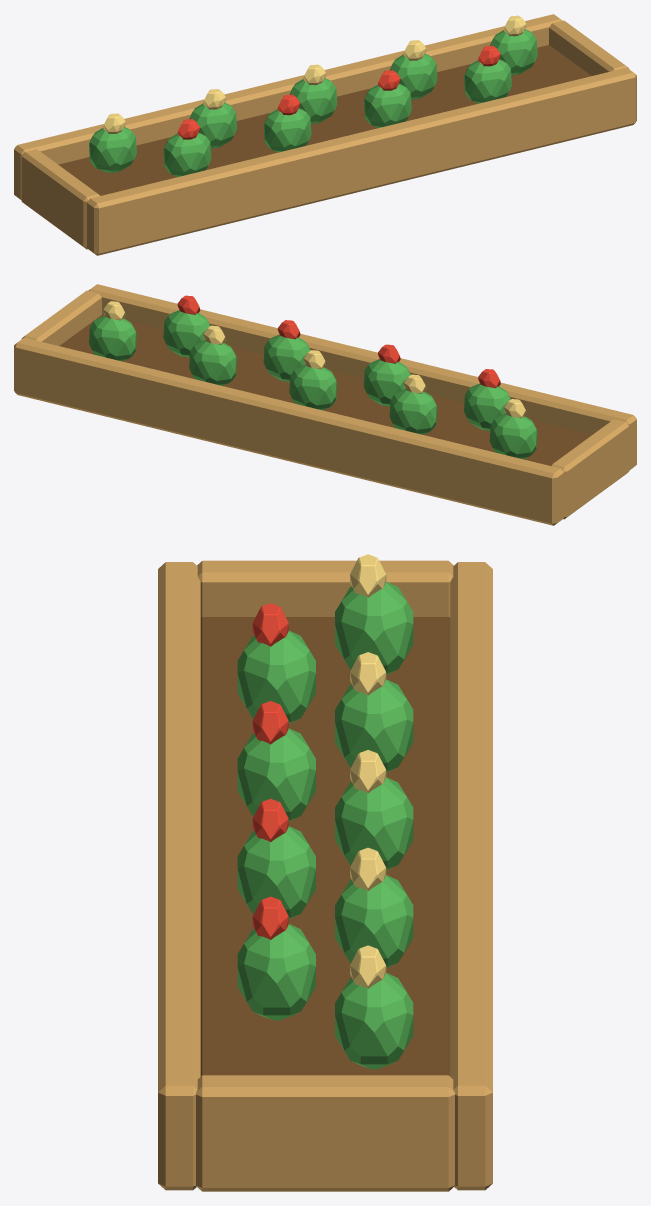
File: FTF_Garden_FlowerBed_Long_4m.glb
The picture shows the model from 3 angles, top to bottom: view 1: azimuth 30°, elevation 25°; view 2: azimuth 150°, elevation 25°; view 3: azimuth 270°, elevation 25°; orthographic projection. The views are drawn at different scales.
Visible parts, largest first — view 1: FTF_Garden_FlowerBed_Long_4m_Mesh; view 2: FTF_Garden_FlowerBed_Long_4m_Mesh; view 3: FTF_Garden_FlowerBed_Long_4m_Mesh.
Boxes of the visible parts, x1,y1,x2,y2 form: FTF_Garden_FlowerBed_Long_4m_Mesh: (14, 14, 636, 255); FTF_Garden_FlowerBed_Long_4m_Mesh: (14, 284, 636, 525); FTF_Garden_FlowerBed_Long_4m_Mesh: (158, 554, 492, 1191).
Size of the model in its own units: 4.14 by 0.6416 by 1.1.
